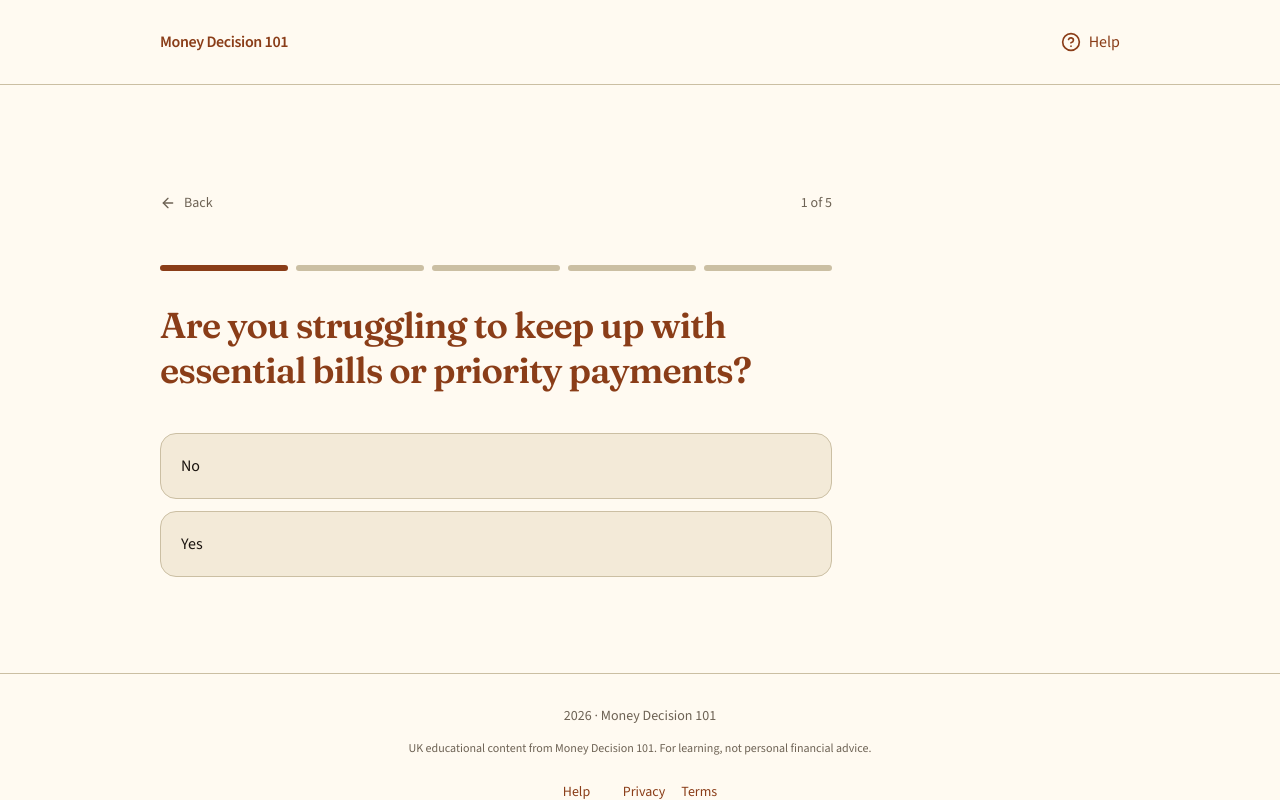
Test: Money Decision journey › fires md_start, md_step_n per question, md_kc_shown, md_kc_pass and md_result on the investing path
The width and height of the screenshot is (1280, 800).
Earlier steps of the test are not shown.
Later steps or results of the test are not shown.
Click the button "No" at (191, 466), box [160,433,832,499]
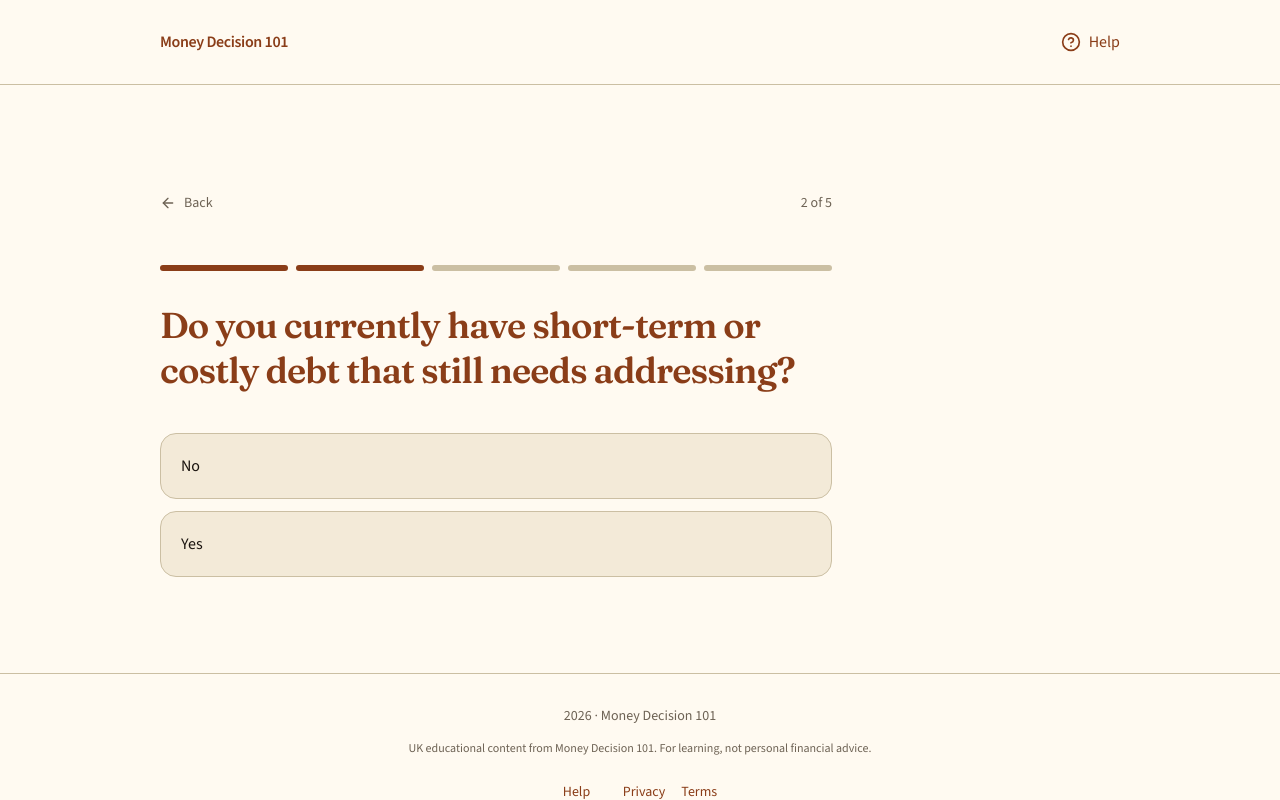
Click the button "No" at (191, 466), box [160,433,832,499]
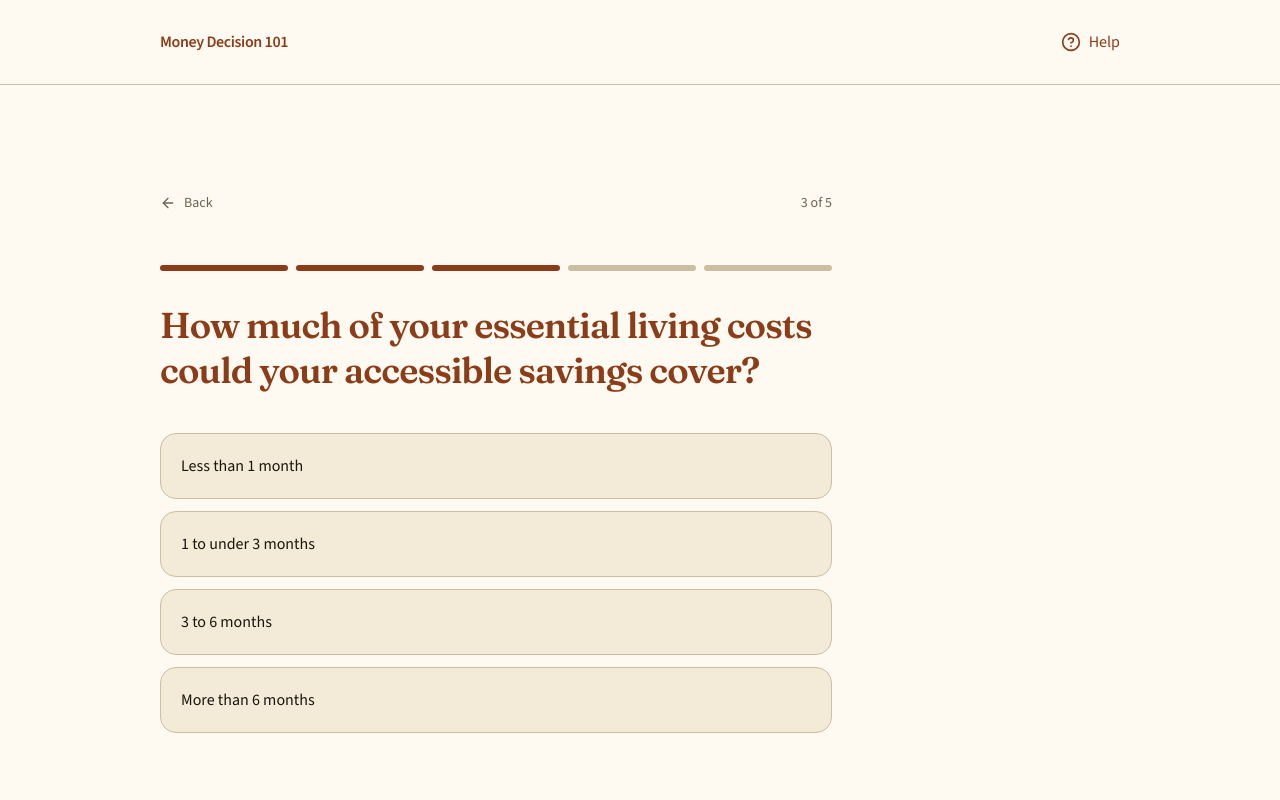
Click the button "3 to 6 months" at (226, 622), box [160,589,832,655]
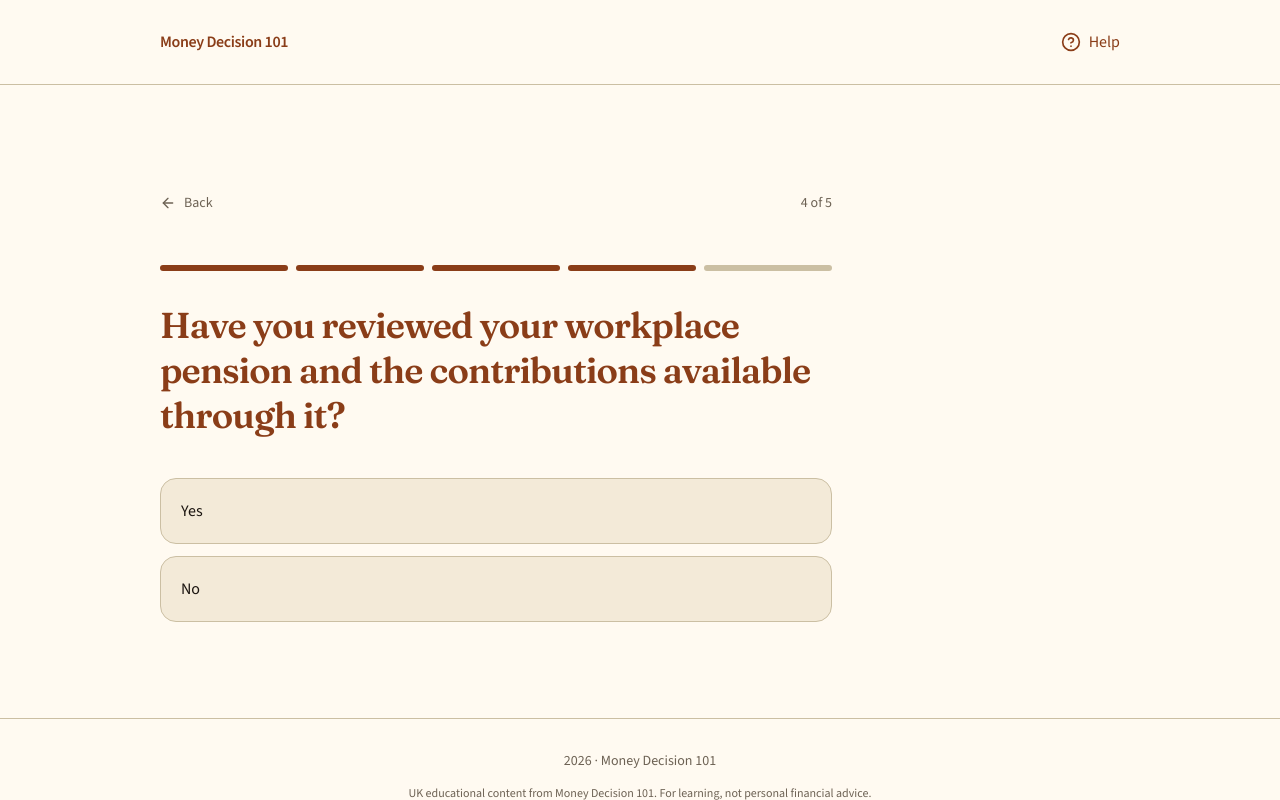
Click the button "Yes" at (192, 510), box [160,478,832,544]
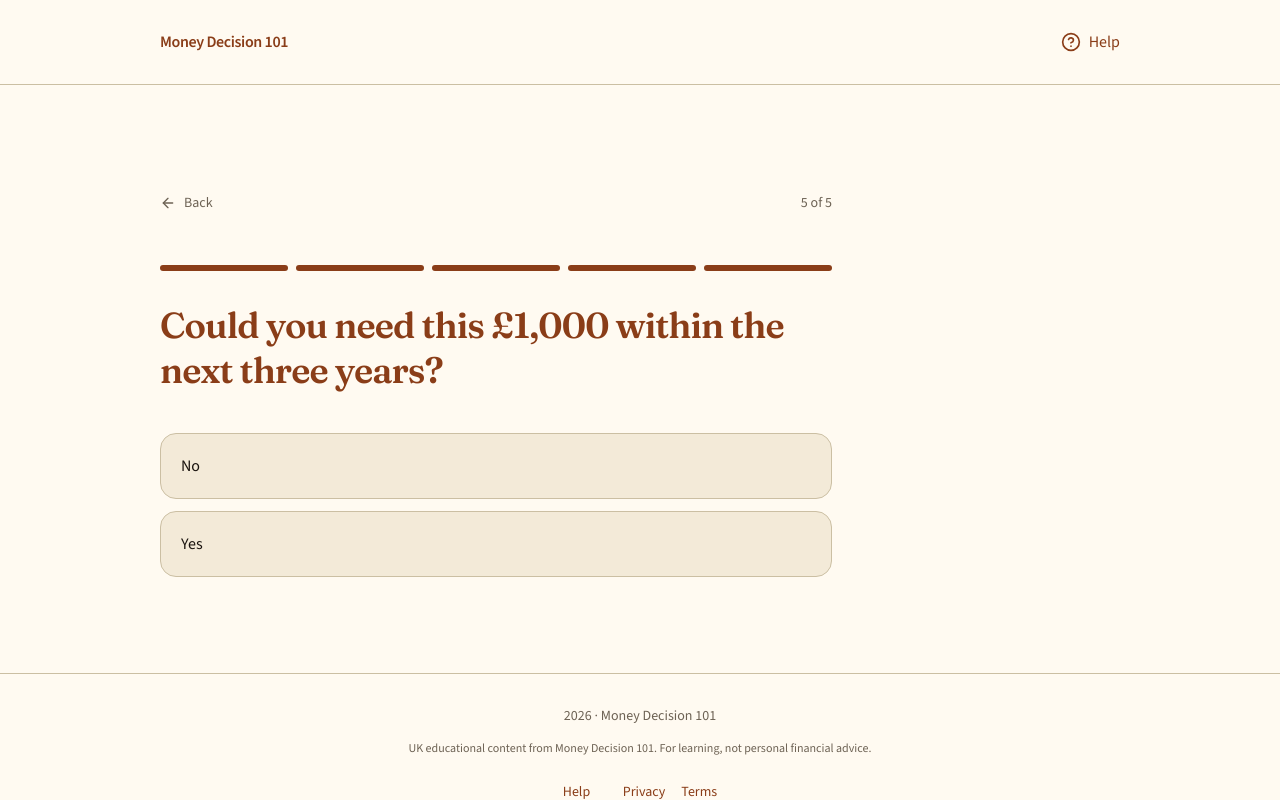
Click the button "No" at (191, 466), box [160,433,832,499]
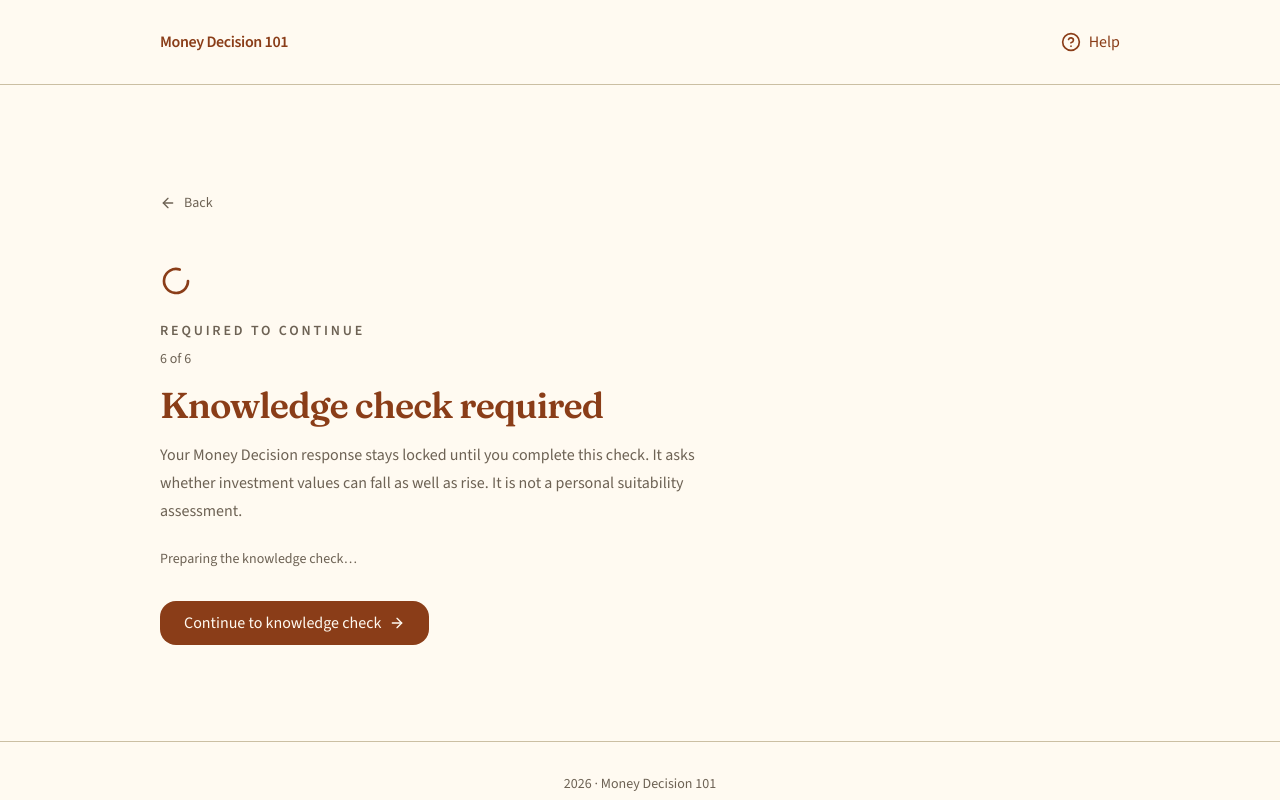
Click the button "Continue to knowledge check" at (295, 623), box [160,601,429,645]
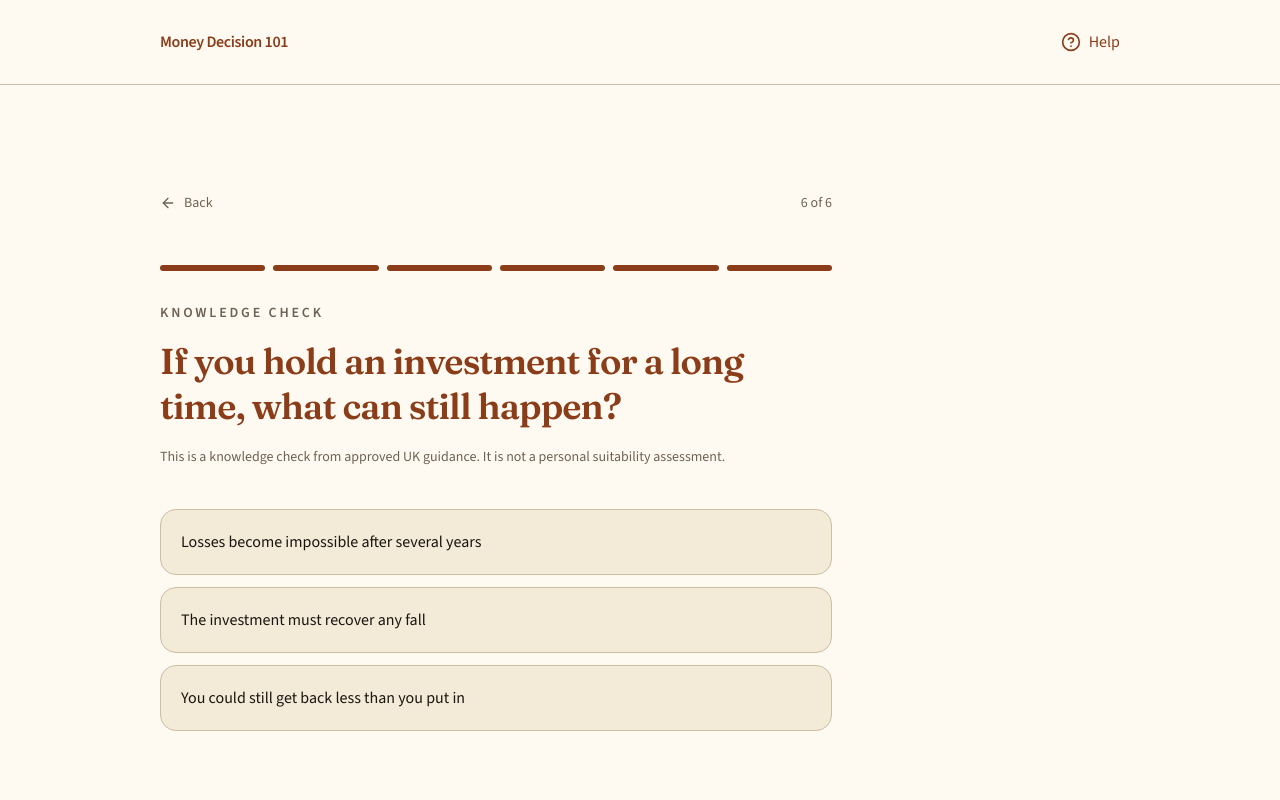
Expected: the text "Knowledge check" is shown, [160,303,324,322]
